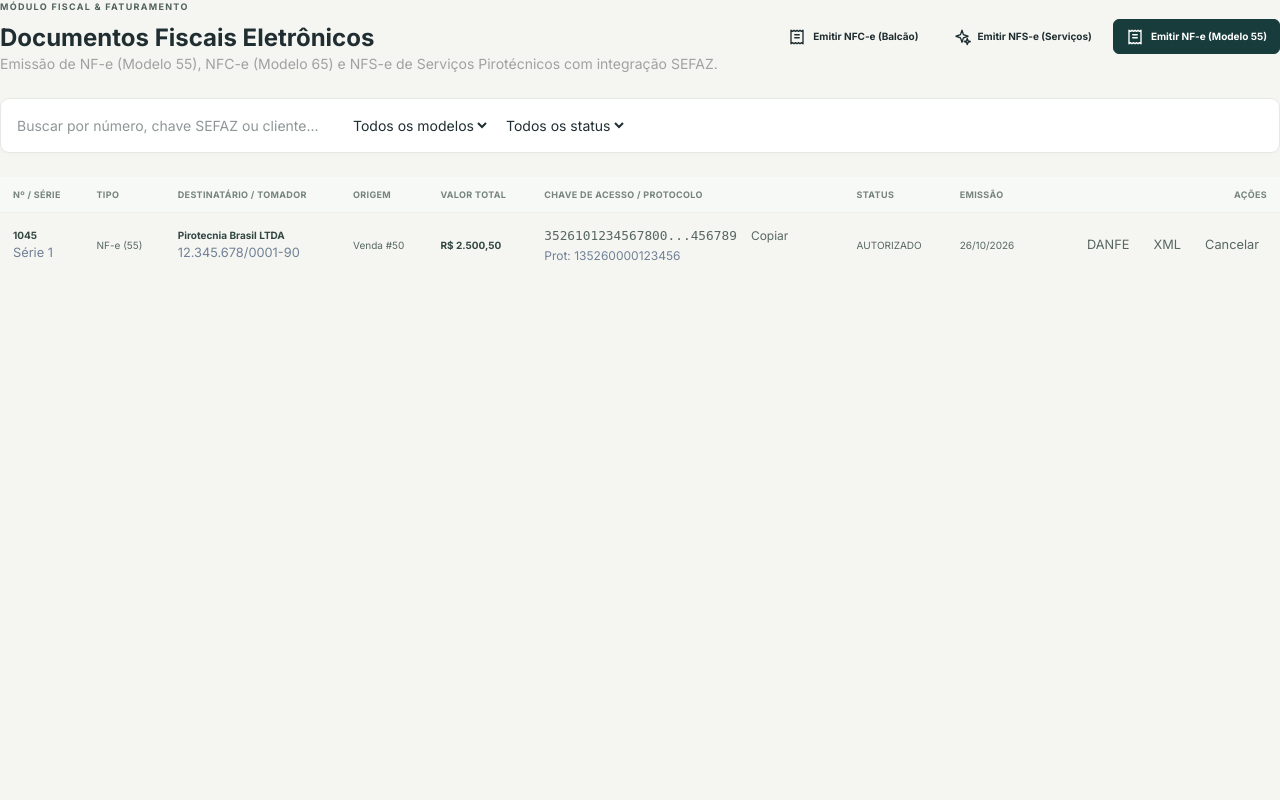
FiscalWorkspace › abre modal de cancelamento ao clicar em Cancelar em documento autorizado
Click the button "Cancelar": (1232, 245) [1197, 231, 1267, 259]
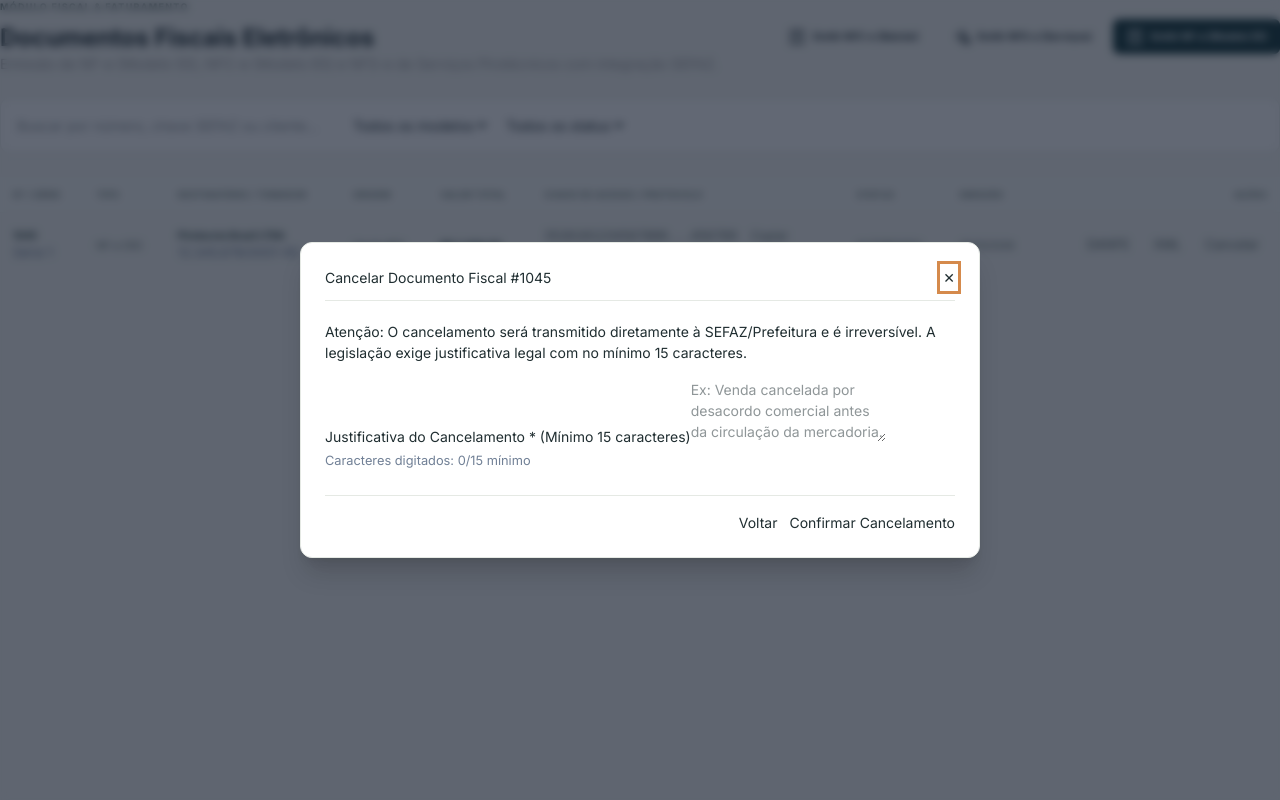
Result: the heading "Cancelar Documento Fiscal #1045" is shown at [325, 267, 551, 288]
Result: the text box labelled "Justificativa do Cancelamento * (Mínimo 15 caracteres)" is shown at [691, 379, 886, 442]
